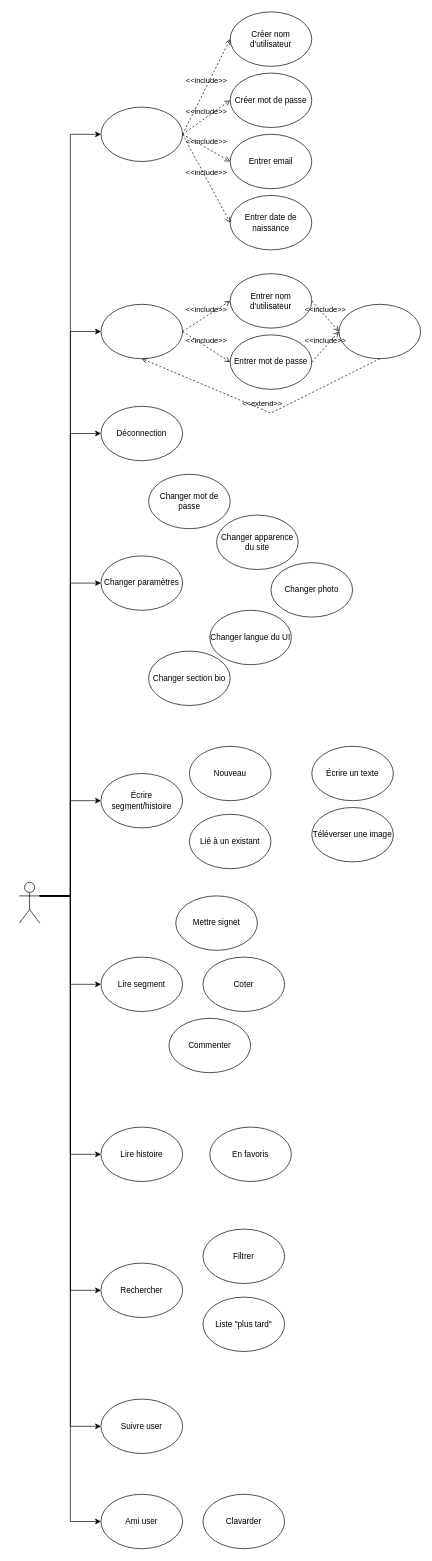
The diagram is 432 pixels wide and 1561 high, and some of its shapes have lost their labels. Each missing label, with the centre of its shape:
Connection: the point at 141,331
Inscription: the point at 141,134
Utilisateur: the point at 29,902
Vérification (BD): the point at 379,331
